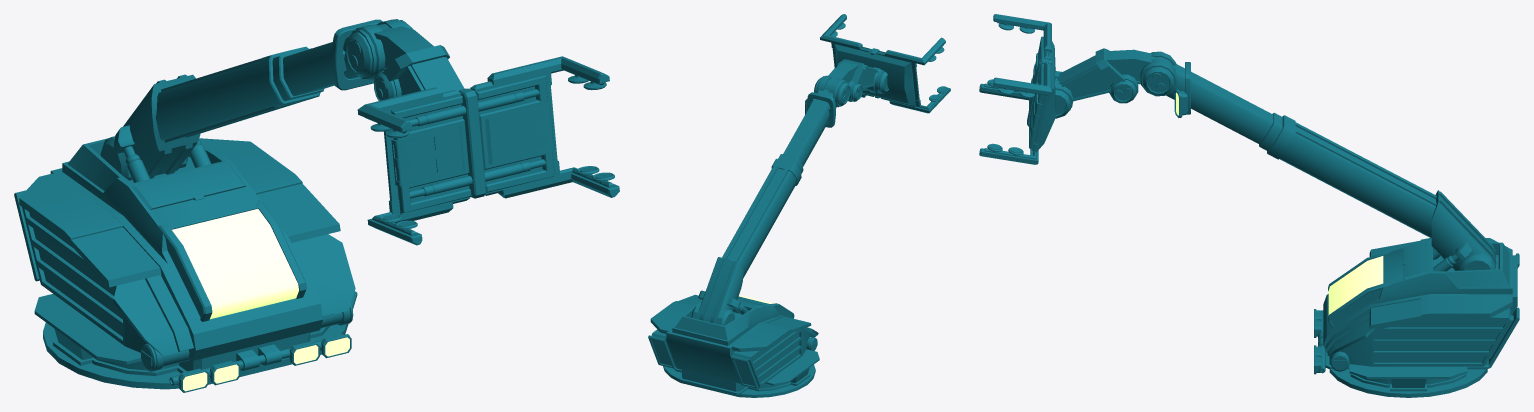
File: Mesh_BackgroundProp_CraneTop.FBX
The picture shows the model from 3 angles, left to right: view 1: azimuth 30°, elevation 25°; view 2: azimuth 150°, elevation 25°; view 3: azimuth 270°, elevation 25°; orthographic projection. The views are drawn at different scales.
Parts seen in each view (by area): view 1: Mesh_BackgroundProp_CraneTop; view 2: Mesh_BackgroundProp_CraneTop; view 3: Mesh_BackgroundProp_CraneTop.
Boxes of the visible parts, x1,y1,x2,y2 form: Mesh_BackgroundProp_CraneTop: [14, 19, 619, 392]; Mesh_BackgroundProp_CraneTop: [648, 14, 950, 397]; Mesh_BackgroundProp_CraneTop: [979, 14, 1519, 397].
Size of the model in its own units: 687 by 1102 by 1758.
